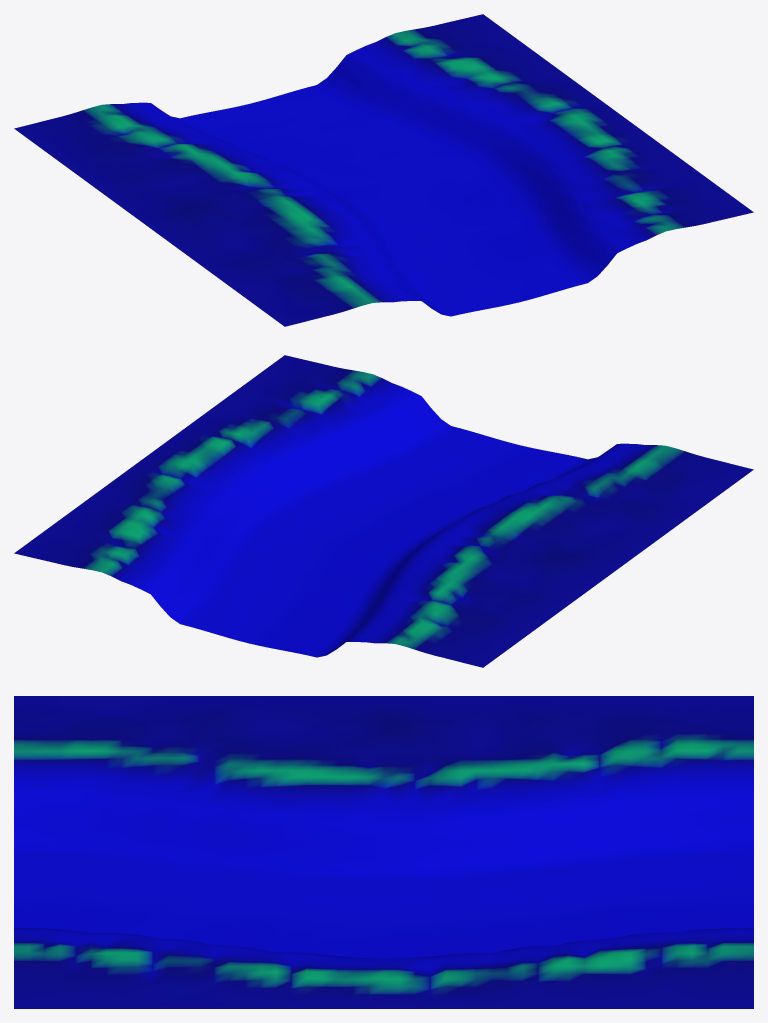
Rendered from channel_straight_a.glb.
The picture shows the model from 3 angles, top to bottom: view 1: azimuth 30°, elevation 25°; view 2: azimuth 150°, elevation 25°; view 3: azimuth 270°, elevation 25°; orthographic projection. The views are drawn at different scales.
Parts seen in each view (by area): view 1: channel_straight_a; view 2: channel_straight_a; view 3: channel_straight_a.
Part boxes in pixels (x1,y1,x2,y2): channel_straight_a: [14, 14, 753, 326]; channel_straight_a: [14, 355, 753, 667]; channel_straight_a: [14, 696, 753, 1008].
Size of what is drawn, in the model's own units: 24 by 1.77 by 24.
